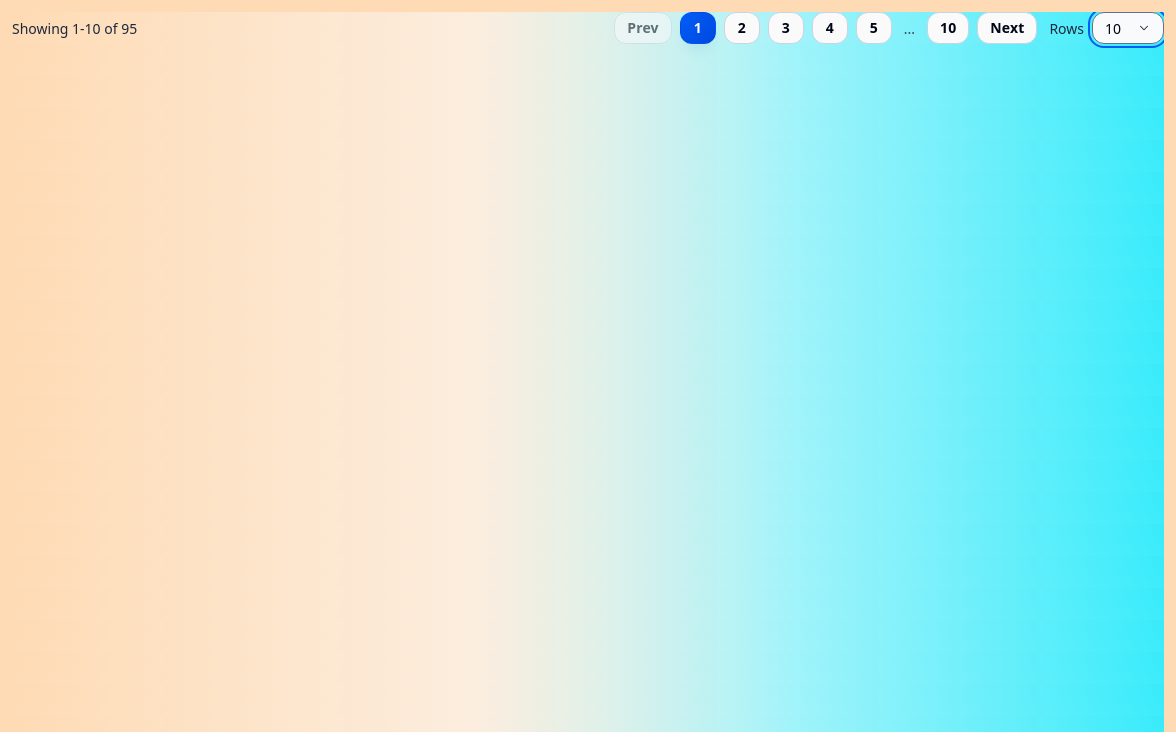
Test: Pagination: page size (D15) › uncontrolled: changes the size, recomputes the range, reports it
Press Enter
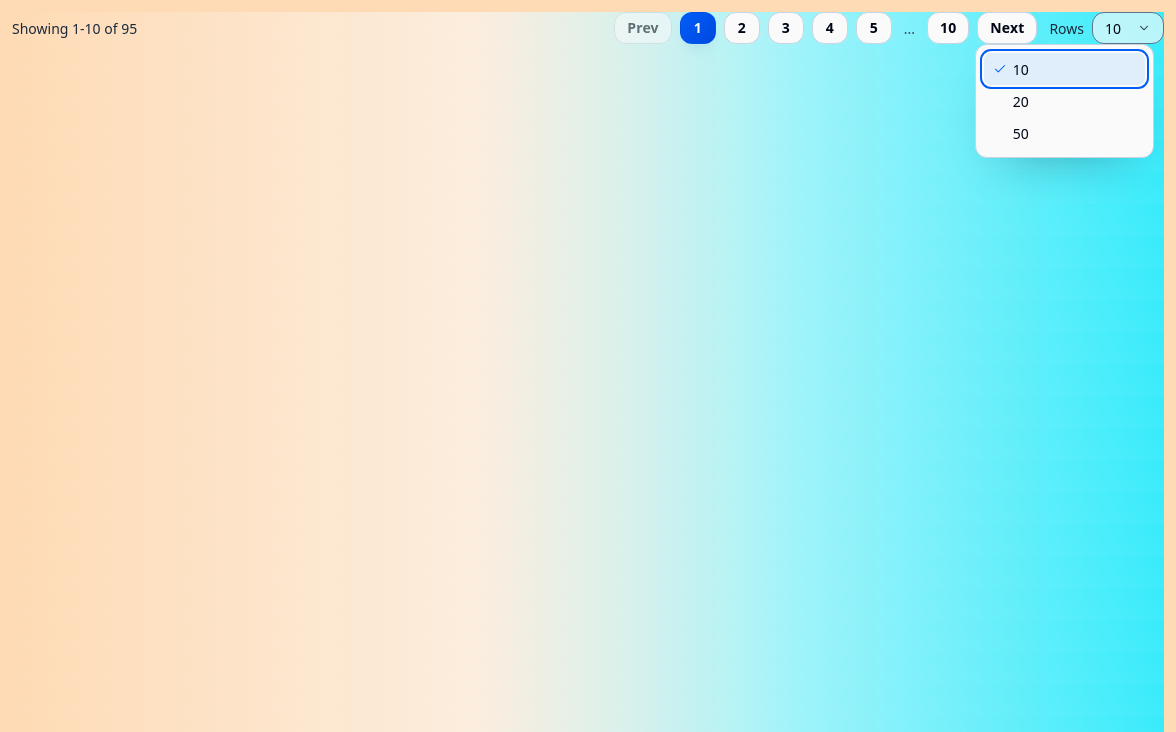
Click the option "50" at (1021, 133), box [1013, 124, 1029, 142]
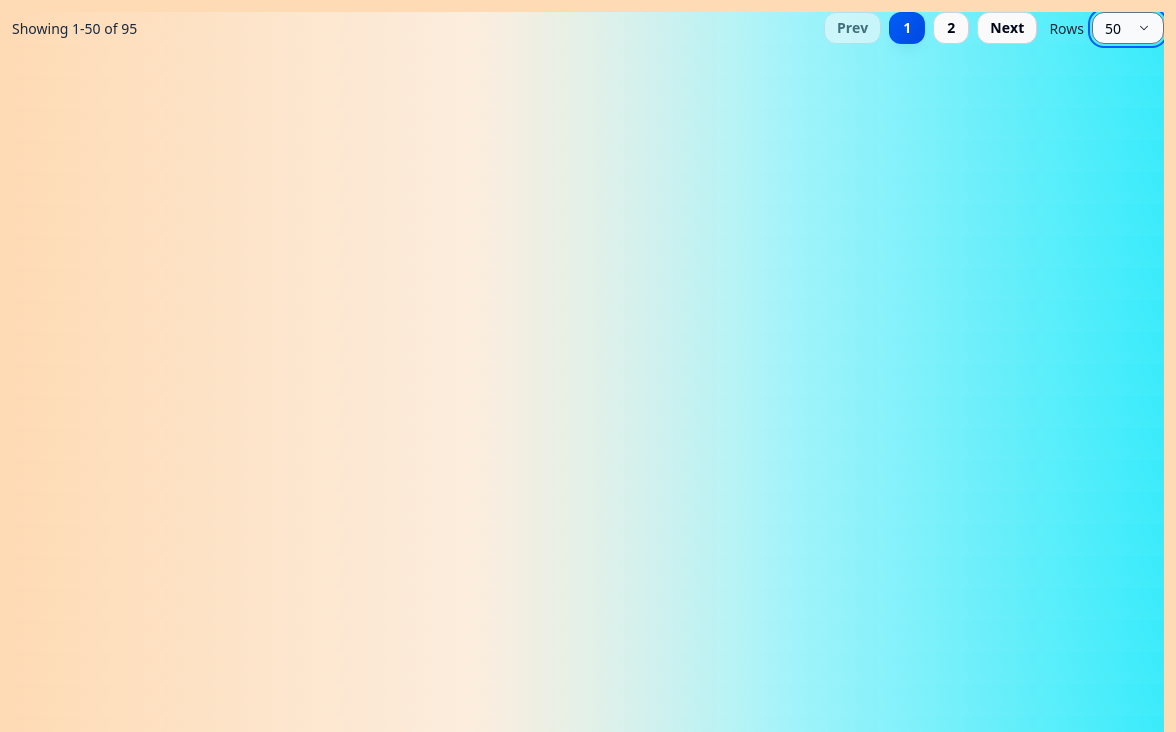
Check: the dropdown named "Rows" reads "50", box [1092, 12, 1164, 44]
Check: the text "Showing 1-50 of 95" is shown, box [12, 18, 137, 38]
